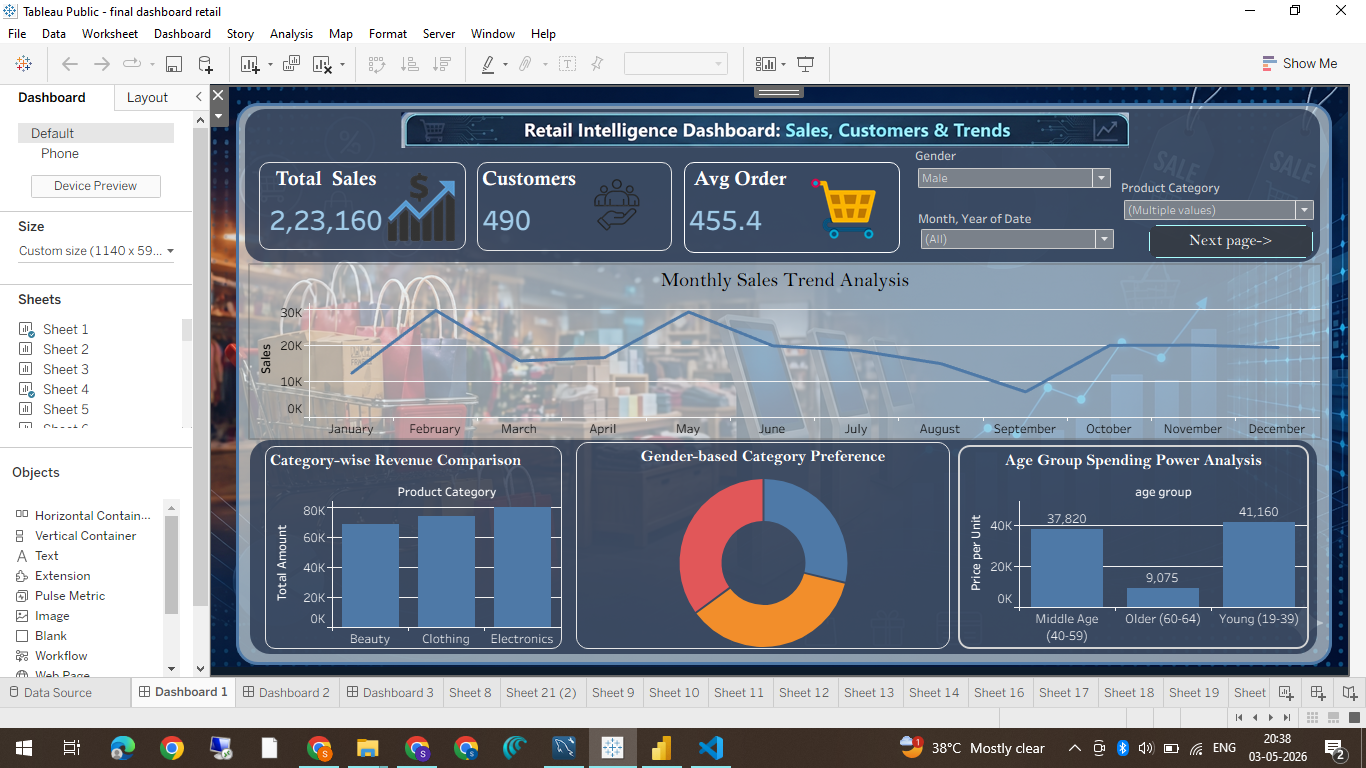

Layout of this report page (visuals, bound fields, positions):
{"tool":"tableau","page":{"name":"Dashboard 1","canvas":[1140,592],"ordinal":0},"visuals":[{"type":"worksheet","title":"Sheet 18","mark":"Pie","box":[21,14,1106,572]},{"type":"worksheet","title":"Sheet 21 (2)","mark":"Automatic","box":[35,25,1075,153]},{"type":"filter","title":"Sheet 4","param":"[federated.1mgrzkx1p5xt441bh5t0h121fed6].[none:Gender:nk]","box":[705,63,199,47]},{"type":"worksheet","title":"Sheet 8","mark":"Automatic","box":[49,78,207,88]},{"type":"worksheet","title":"Sheet 9","mark":"Automatic","box":[267,78,195,89]},{"type":"worksheet","title":"Sheet 10","mark":"Automatic","box":[474,78,216,91]},{"type":"image","param":"C:/Users/User/Downloads/customer_-removebg-preview.png","box":[371,85,78,71]},{"type":"image","param":"C:/Users/User/Downloads/download-removebg-preview.png","box":[596,85,82,74]},{"type":"image","param":"C:/Users/User/Downloads/oownload-removebg-preview.png","box":[174,86,79,74]},{"type":"filter","title":"Sheet 1","param":"[federated.1mgrzkx1p5xt441bh5t0h121fed6].[none:Product Category:nk]","box":[911,95,196,44]},{"type":"filter","title":"Sheet 17","param":"[federated.1mgrzkx1p5xt441bh5t0h121fed6].[my:Date:ok]","box":[708,126,199,41]},{"type":"dashboard-object","box":[939,141,164,33]},{"type":"worksheet","title":"Sheet 17","mark":"Automatic","rows":["Calculation_0554492993675264"],"cols":["Date"],"box":[40,181,1070,173]},{"type":"worksheet","title":"Sheet 21","mark":"Automatic","box":[40,356,1067,214]},{"type":"worksheet","title":"Sheet 20","box":[366,358,374,207]},{"type":"worksheet","title":"Sheet 4","mark":"Bar","rows":["Price per Unit"],"cols":["Calculation_1170767387840512"],"box":[748,361,351,204]},{"type":"worksheet","title":"Sheet 1","mark":"Automatic","rows":["Total Amount"],"cols":["Product Category"],"box":[55,362,297,203]}]}

Visuals, with their boxes on the page's 1140x592 design canvas (x1, y1, x2, y2). These are canvas units, not pixel positions in the 1366x768 screenshot, which may show the page scaled, cropped or inside an application window:
"Sheet 18" worksheet (Pie marks): rect(21, 14, 1127, 586)
"Sheet 21 (2)" worksheet: rect(35, 25, 1110, 178)
"Sheet 4" filter: rect(705, 63, 904, 110)
"Sheet 8" worksheet: rect(49, 78, 256, 166)
"Sheet 9" worksheet: rect(267, 78, 462, 167)
"Sheet 10" worksheet: rect(474, 78, 690, 169)
image: rect(371, 85, 449, 156)
image: rect(596, 85, 678, 159)
image: rect(174, 86, 253, 160)
"Sheet 1" filter: rect(911, 95, 1107, 139)
"Sheet 17" filter: rect(708, 126, 907, 167)
dashboard-object: rect(939, 141, 1103, 174)
"Sheet 17" worksheet: rect(40, 181, 1110, 354)
"Sheet 21" worksheet: rect(40, 356, 1107, 570)
"Sheet 20" worksheet: rect(366, 358, 740, 565)
"Sheet 4" worksheet (Bar marks): rect(748, 361, 1099, 565)
"Sheet 1" worksheet: rect(55, 362, 352, 565)
